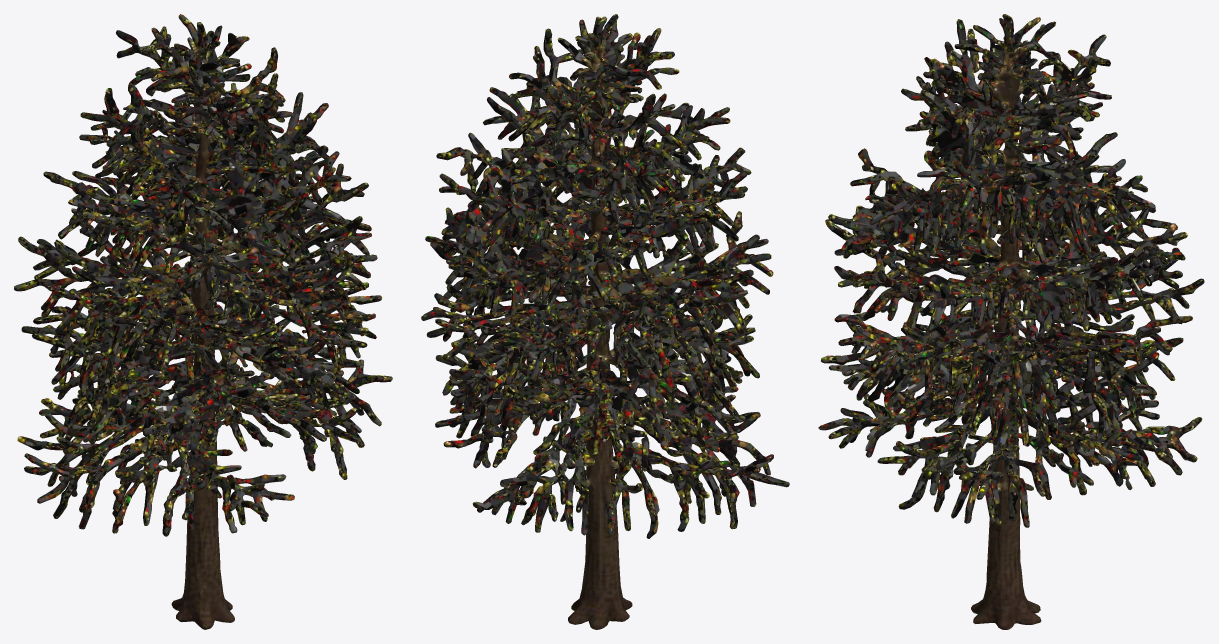
The model's file is larch-v20.glb.
3 views of the same model, side by side, from view 1: azimuth 30°, elevation 25°; view 2: azimuth 150°, elevation 25°; view 3: azimuth 270°, elevation 25° (orthographic).
Parts seen in each view (by area): view 1: world; view 2: world; view 3: world.
Boxes of the visible parts, x1=… form: world: x1=14, y1=14, x2=392, y2=629; world: x1=421, y1=14, x2=789, y2=629; world: x1=818, y1=14, x2=1204, y2=629.
Size of the model in its own units: 7.45 by 12 by 6.99.
Materials: 1 (1 with a texture image).
